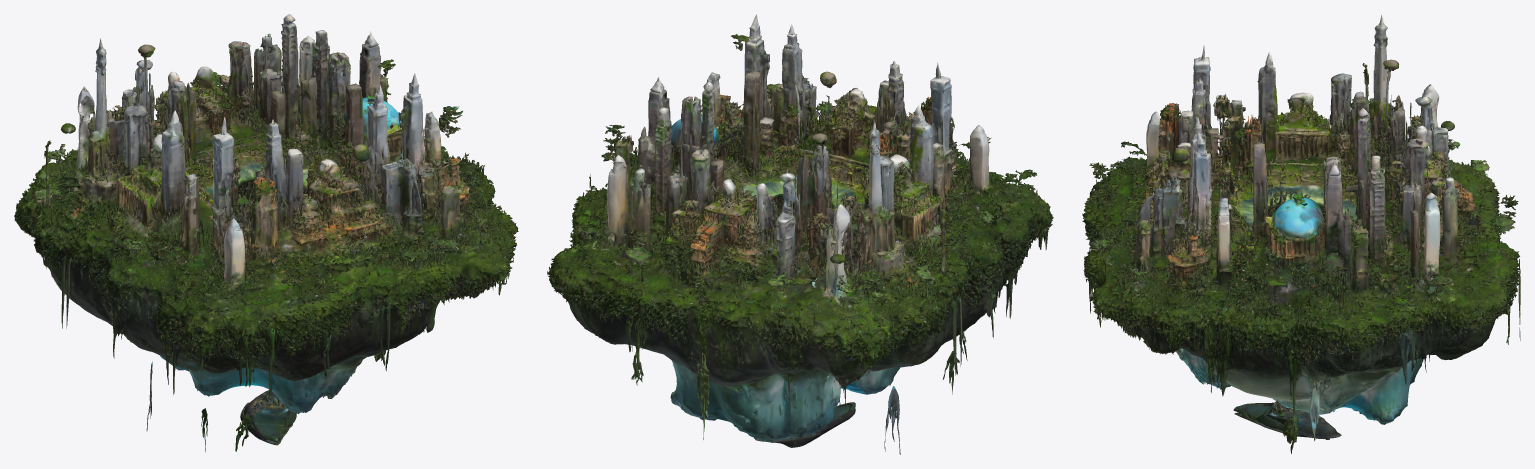
The model's file is island-compressed.glb.
3 views of the same model, side by side, from view 1: azimuth 30°, elevation 25°; view 2: azimuth 150°, elevation 25°; view 3: azimuth 270°, elevation 25° (orthographic). The views are drawn at different scales.
Visible parts, largest first — view 1: Mesh_0.001; view 2: Mesh_0.001; view 3: Mesh_0.001, blue building.
Boxes of the visible parts, <box> form: Mesh_0.001: <box>14,14,518,452</box>; Mesh_0.001: <box>547,14,1053,454</box>; Mesh_0.001: <box>1082,15,1520,453</box>; blue building: <box>1271,195,1325,253</box>.
Size of the model in its own units: 1.91 by 1.79 by 1.94.
Materials: 1 (1 with a texture image).
